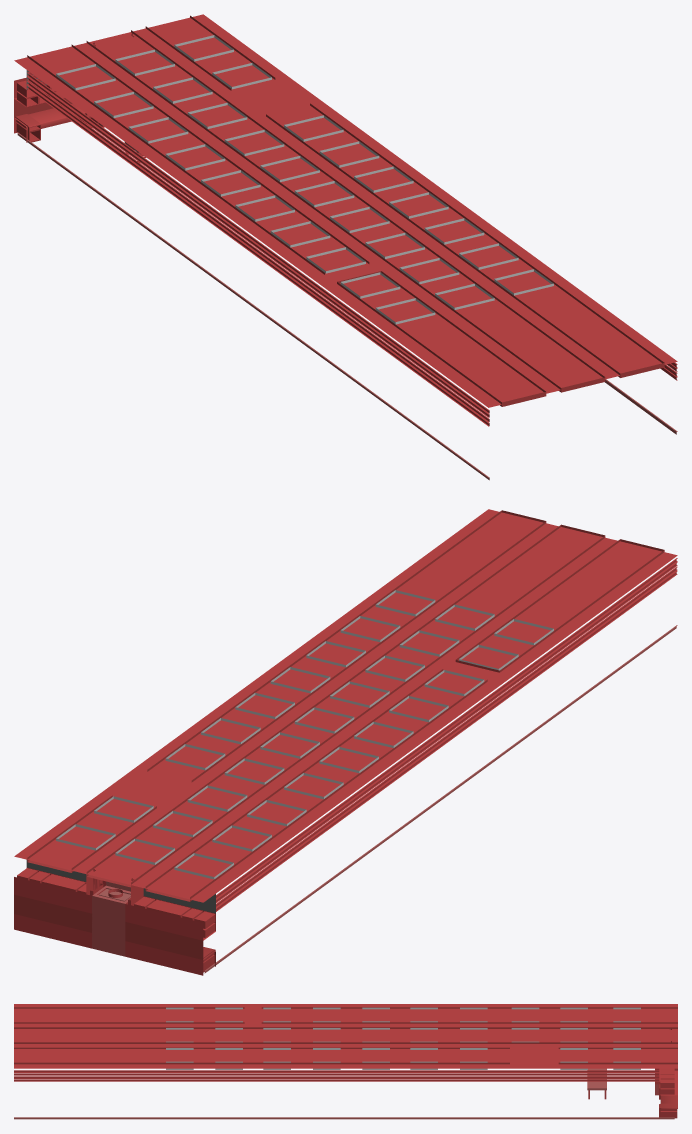
File: workshop_no_collider.obj
3 renders of one model, top to bottom at view 1: azimuth 30°, elevation 25°; view 2: azimuth 150°, elevation 25°; view 3: azimuth 270°, elevation 25°, orthographic. The views are drawn at different scales.
Parts seen in each view (by area): view 1: level.001_Plane.001; view 2: level.001_Plane.001; view 3: level.001_Plane.001.
Part boxes in pixels (x1=…): level.001_Plane.001: x1=14, y1=14, x2=677, y2=480; level.001_Plane.001: x1=14, y1=509, x2=677, y2=975; level.001_Plane.001: x1=14, y1=1004, x2=677, y2=1119.
Bounding box in the file's own units: 18.74 × 7.14 × 81.35.
